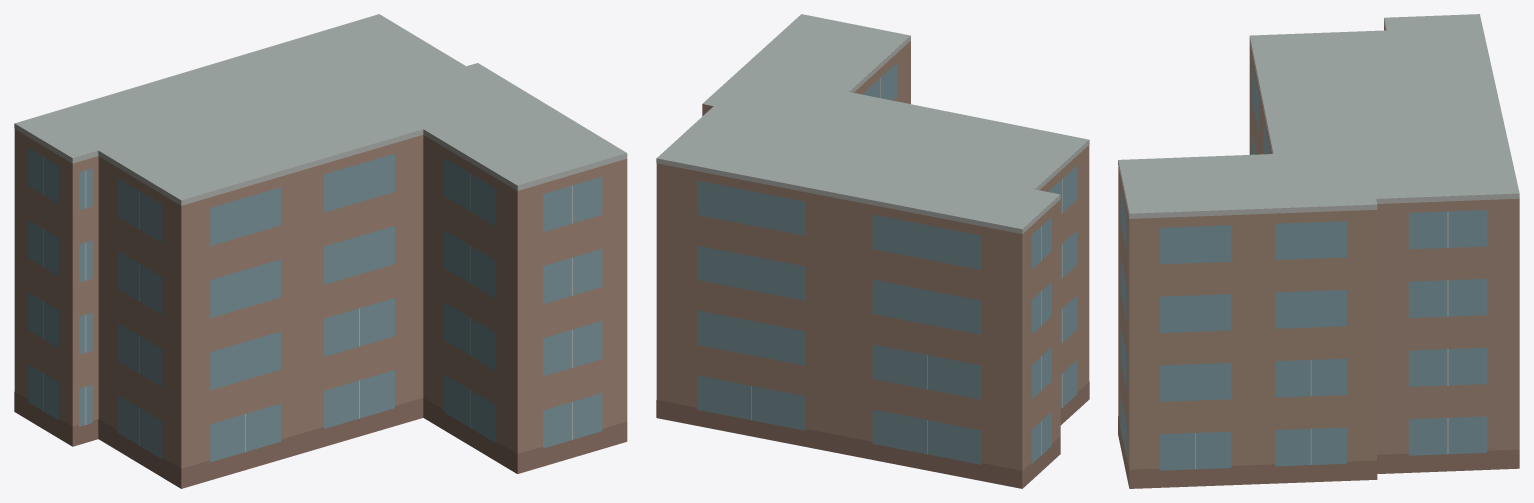
Rendered from survey-upis-32462866.glb.
3 views of the same model, side by side, from view 1: azimuth 30°, elevation 25°; view 2: azimuth 150°, elevation 25°; view 3: azimuth 270°, elevation 25° (orthographic). The views are drawn at different scales.
Parts seen in each view (by area): view 1: survey-upis-32462866.tmp; view 2: survey-upis-32462866.tmp; view 3: survey-upis-32462866.tmp.
Part boxes in pixels (x1,y1,x2,y2): survey-upis-32462866.tmp: (14,14,627,488); survey-upis-32462866.tmp: (656,14,1089,488); survey-upis-32462866.tmp: (1118,14,1519,488).
Bounding box in the file's own units: 20.25 × 13 × 17.2.
